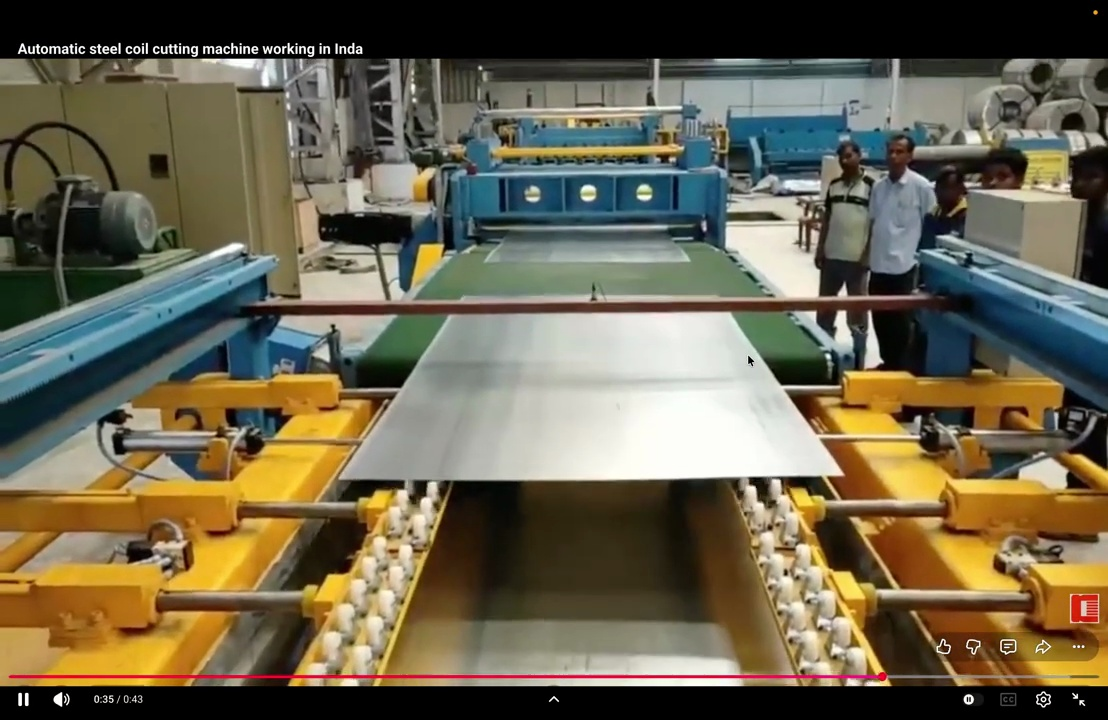steel plate: (341, 313, 840, 480), (485, 233, 688, 263)
